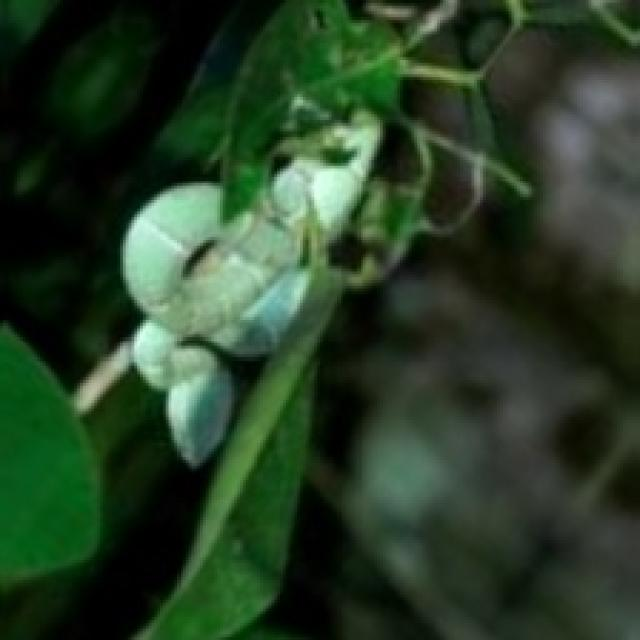north ph temple pitviper: (123, 111, 380, 466)
